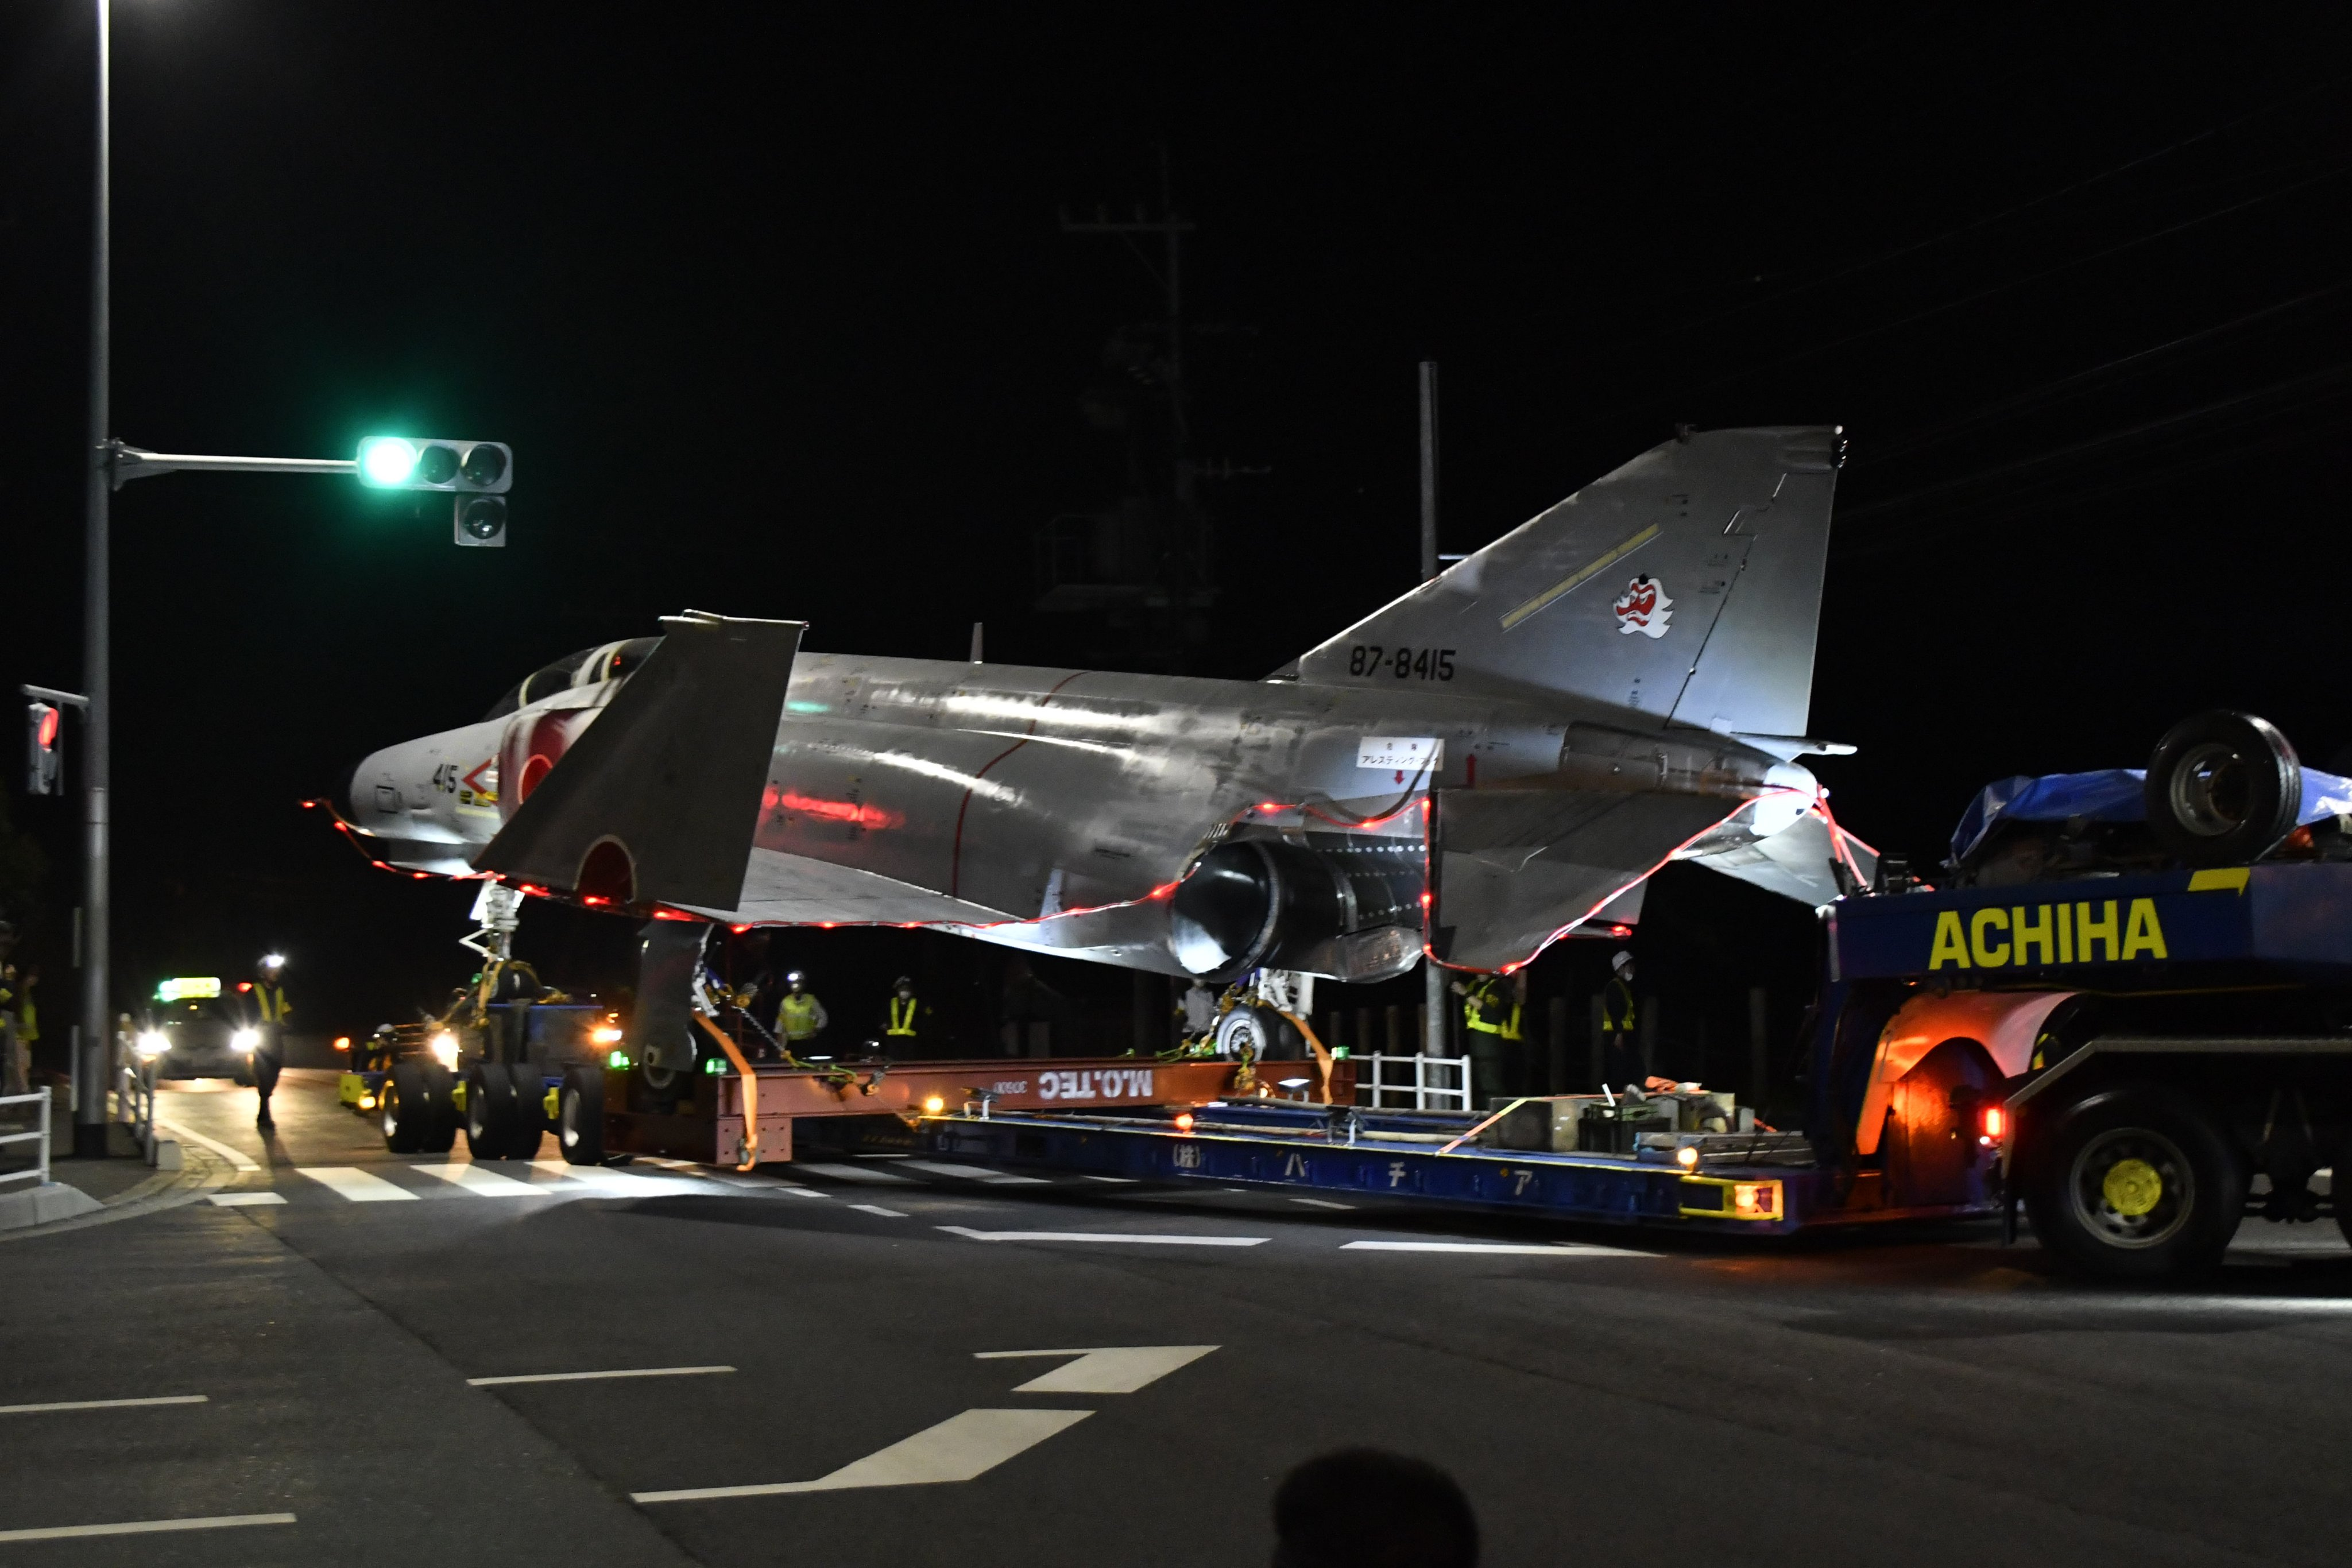F4: (299, 420, 1934, 1111)
